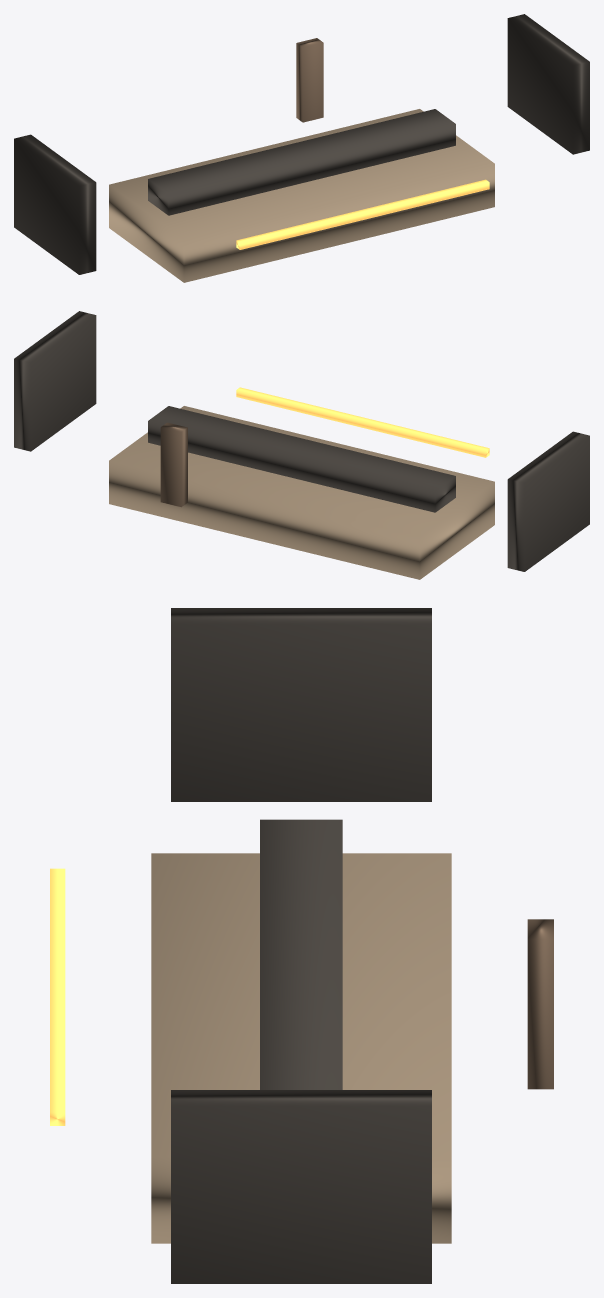
Rendered from jovian-harvester-deck-span-lod1.glb.
3 views of the same model, one above another, from view 1: azimuth 30°, elevation 25°; view 2: azimuth 150°, elevation 25°; view 3: azimuth 270°, elevation 25° (orthographic). The views are drawn at different scales.
Visible parts, largest first — view 1: jovian-harvester-deck-span-main, jovian-harvester-deck-span-underbeam, jovian-harvester-deck-span-edge-beam-left, jovian-harvester-deck-span-edge-beam-right, jovian-harvester-deck-span-wayfinding, jovian-harvester-deck-span-service-rib; view 2: jovian-harvester-deck-span-main, jovian-harvester-deck-span-underbeam, jovian-harvester-deck-span-edge-beam-left, jovian-harvester-deck-span-edge-beam-right, jovian-harvester-deck-span-wayfinding, jovian-harvester-deck-span-service-rib; view 3: jovian-harvester-deck-span-main, jovian-harvester-deck-span-edge-beam-left, jovian-harvester-deck-span-edge-beam-right, jovian-harvester-deck-span-underbeam, jovian-harvester-deck-span-service-rib, jovian-harvester-deck-span-wayfinding.
Boxes of the visible parts, box(x1,y1,x2,y2) form: jovian-harvester-deck-span-main: box(109, 109, 494, 282); jovian-harvester-deck-span-underbeam: box(148, 109, 455, 215); jovian-harvester-deck-span-edge-beam-left: box(14, 134, 96, 274); jovian-harvester-deck-span-edge-beam-right: box(507, 14, 589, 154); jovian-harvester-deck-span-wayfinding: box(236, 179, 489, 249); jovian-harvester-deck-span-service-rib: box(296, 38, 323, 122); jovian-harvester-deck-span-main: box(109, 406, 494, 579); jovian-harvester-deck-span-underbeam: box(148, 406, 455, 512); jovian-harvester-deck-span-edge-beam-left: box(507, 431, 589, 571); jovian-harvester-deck-span-edge-beam-right: box(14, 311, 96, 451); jovian-harvester-deck-span-wayfinding: box(236, 387, 489, 457); jovian-harvester-deck-span-service-rib: box(160, 422, 187, 507); jovian-harvester-deck-span-main: box(151, 853, 451, 1243); jovian-harvester-deck-span-edge-beam-left: box(171, 608, 431, 801); jovian-harvester-deck-span-edge-beam-right: box(171, 1090, 431, 1283); jovian-harvester-deck-span-underbeam: box(260, 819, 342, 1089); jovian-harvester-deck-span-service-rib: box(527, 919, 553, 1089); jovian-harvester-deck-span-wayfinding: box(50, 868, 65, 1125).
Bounding box in the file's own units: 5.42 × 1.19 × 2.32.
